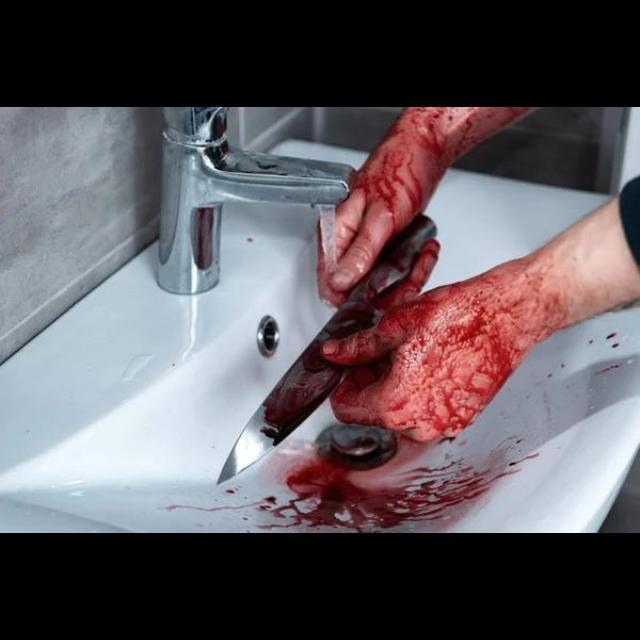blood: (219, 216, 531, 482), (165, 428, 541, 533), (343, 109, 528, 227), (565, 357, 640, 416)
